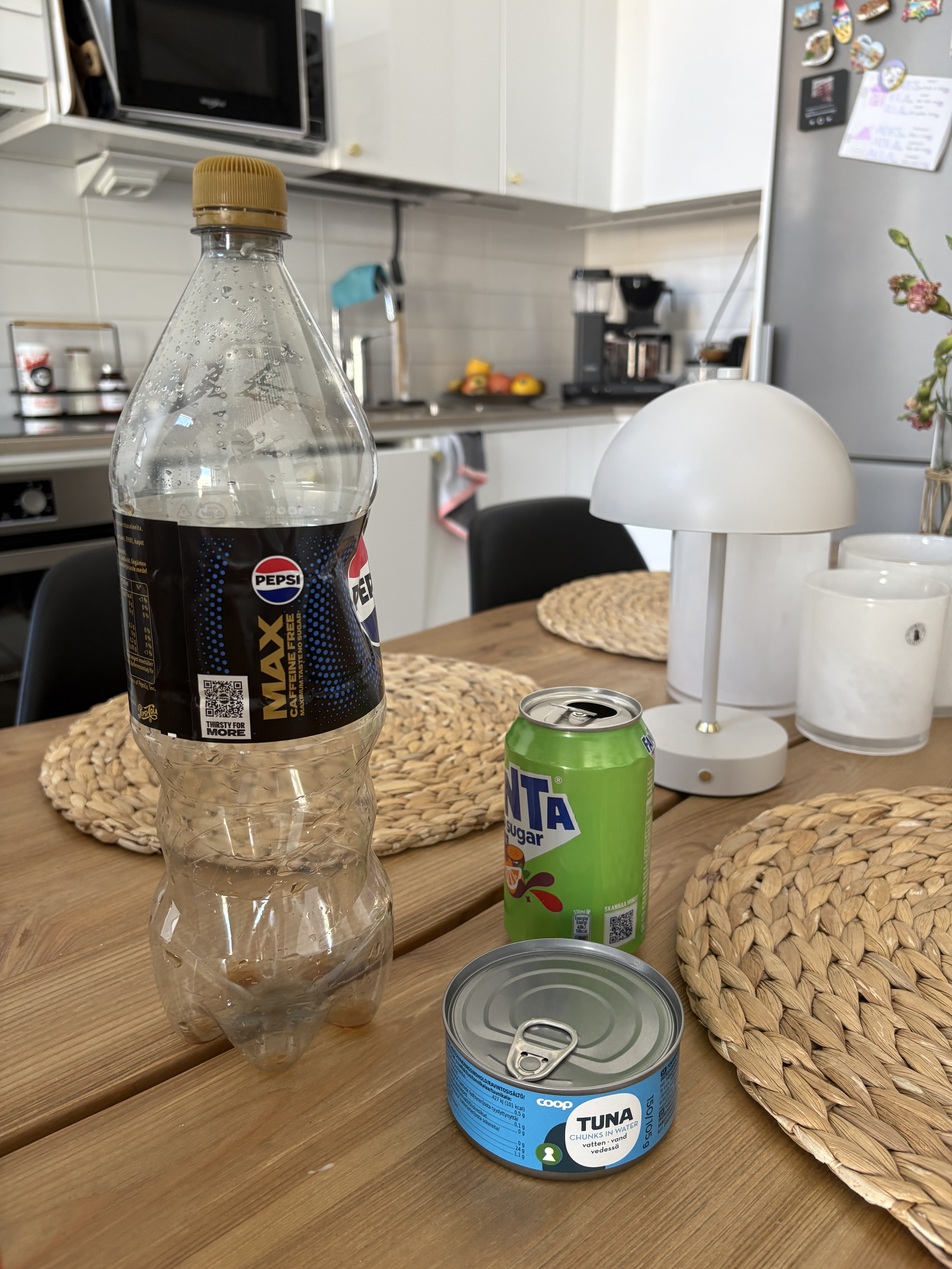Konservburk: (436, 954, 716, 1206)
Pantburk: (71, 103, 415, 1088), (479, 667, 697, 941)
